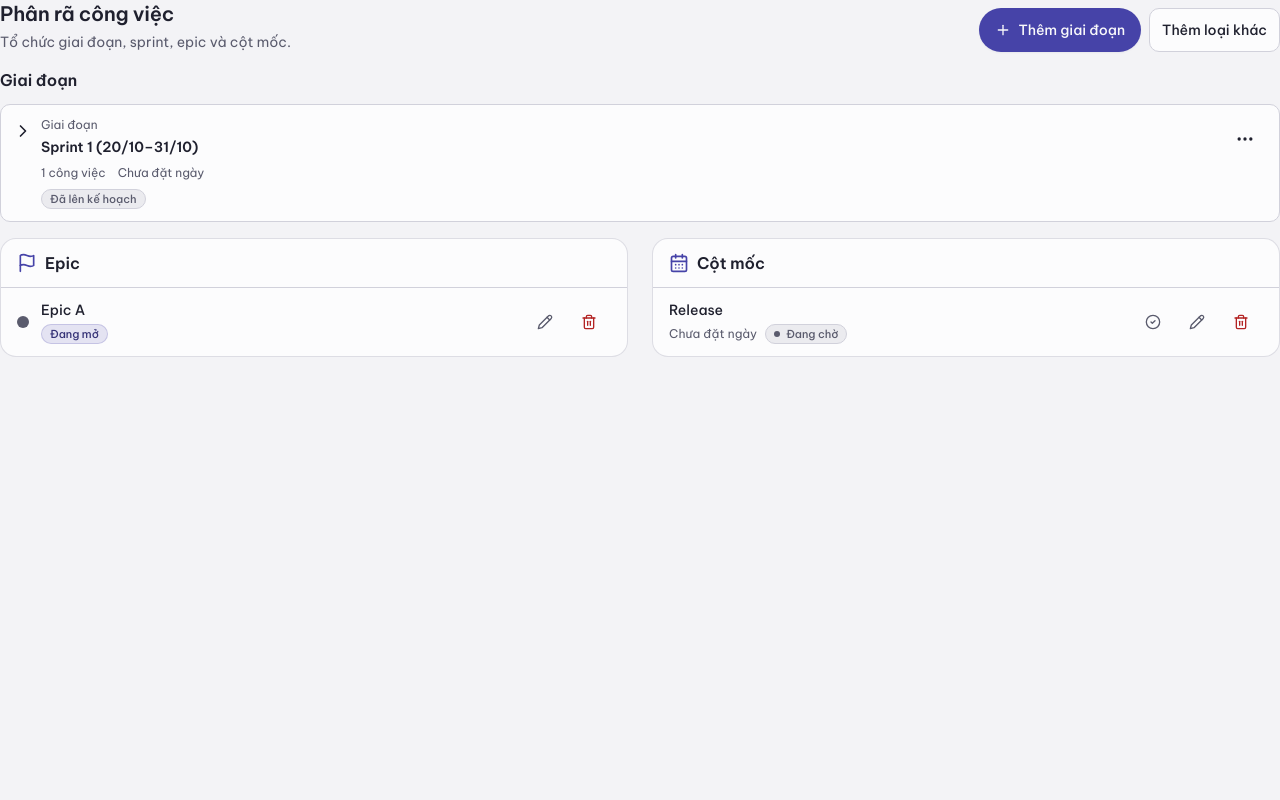
Scenario: WBS localization (vi) › labels the addSprint editor
Click the heading named "Thao tác với Sprint 1 (20/10–31/10)".
click(1245, 139)  # box [1235,129,1255,149]
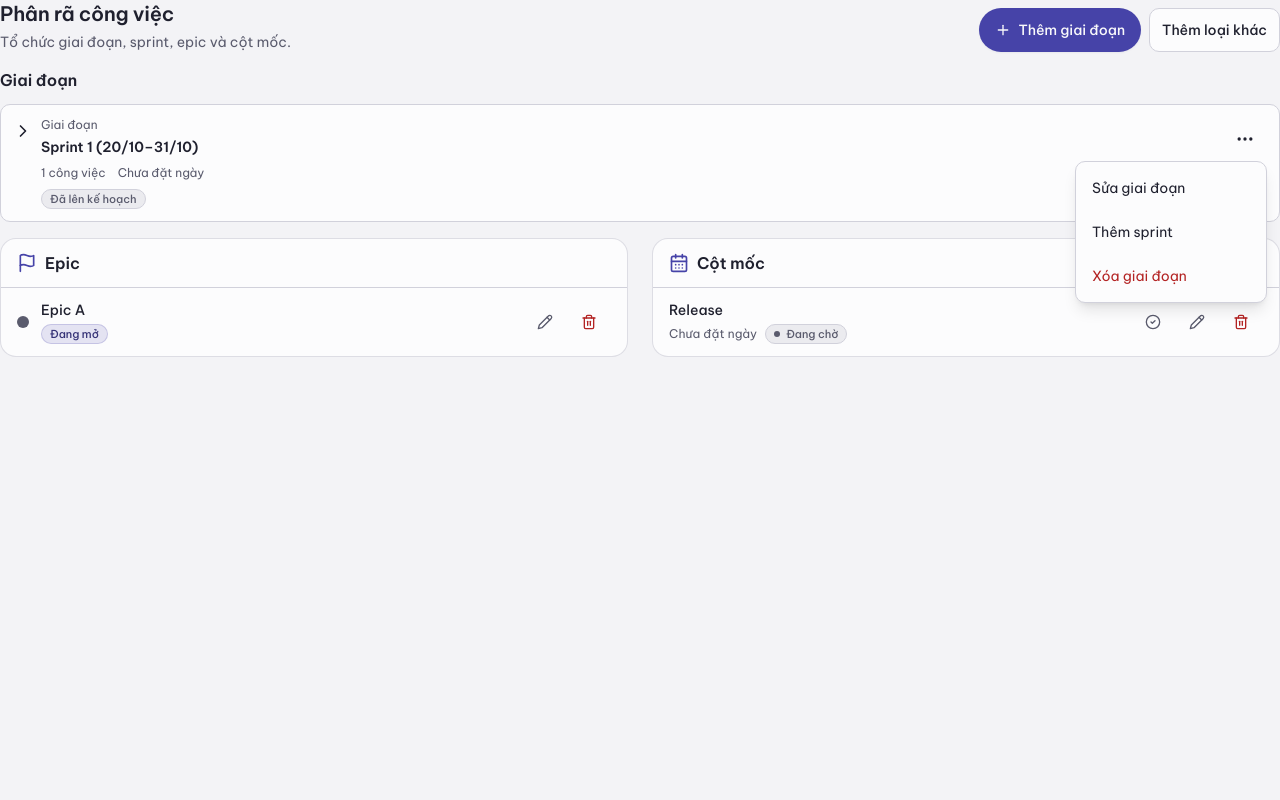
Click the button "Thêm sprint".
click(1171, 232)  # box [1080,210,1262,254]
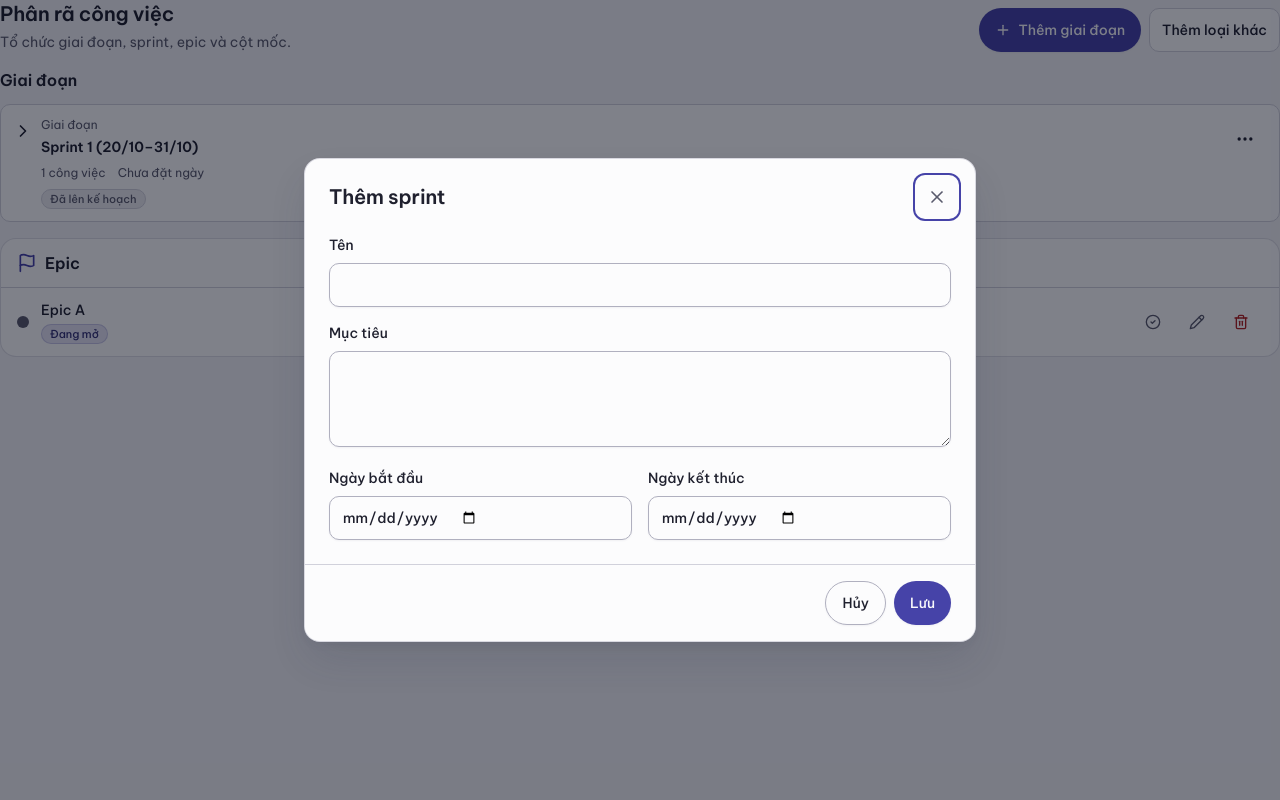
expect the field labelled "Tên" is shown: met, box [329,263,951,307]
expect the text box labelled "Mục tiêu" is shown: met, box [329,351,951,447]
expect the date field labelled "Ngày bắt đầu" is shown: met, box [329,496,632,540]
Click the button "Hủy".
click(856, 603)  # box [825,581,886,625]
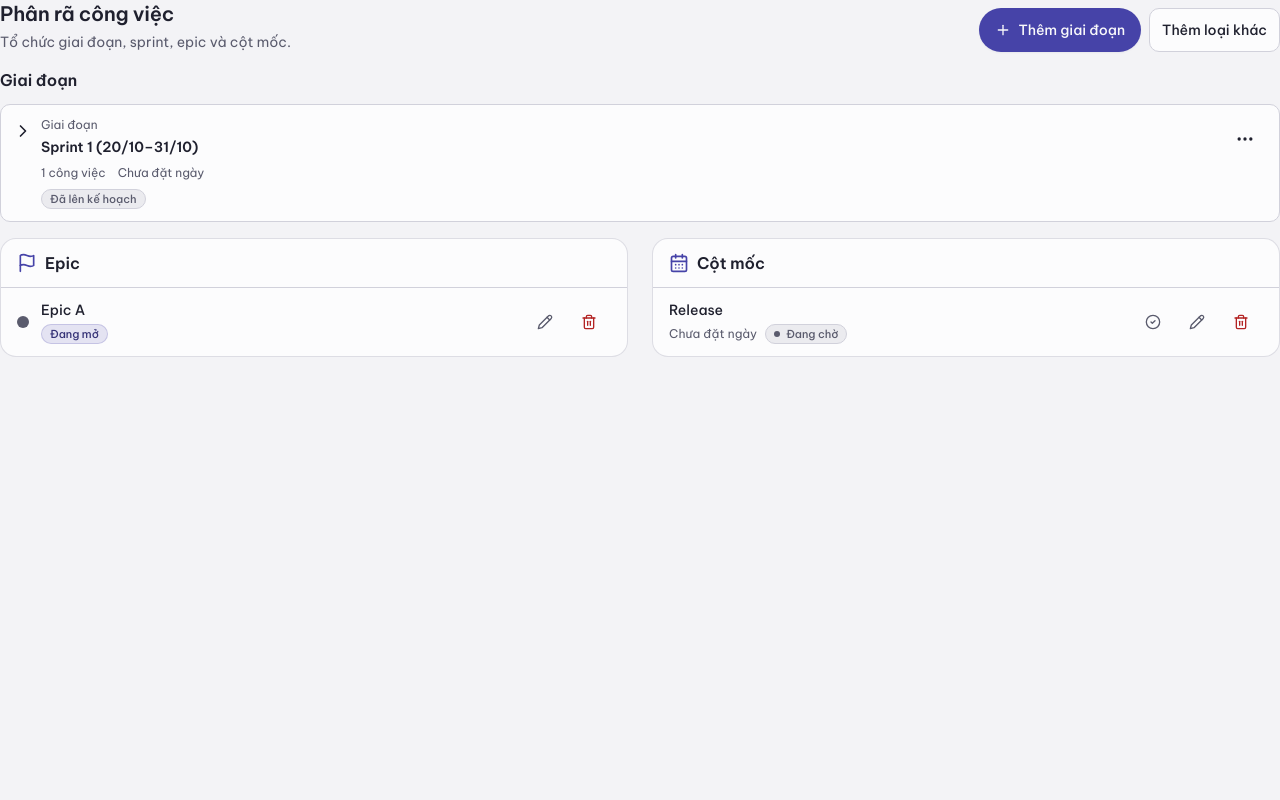
expect the dialog is gone: met
